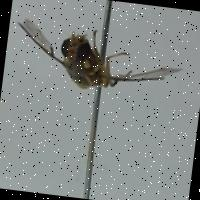Oriental-fruit-fly: (1, 7, 190, 110)
